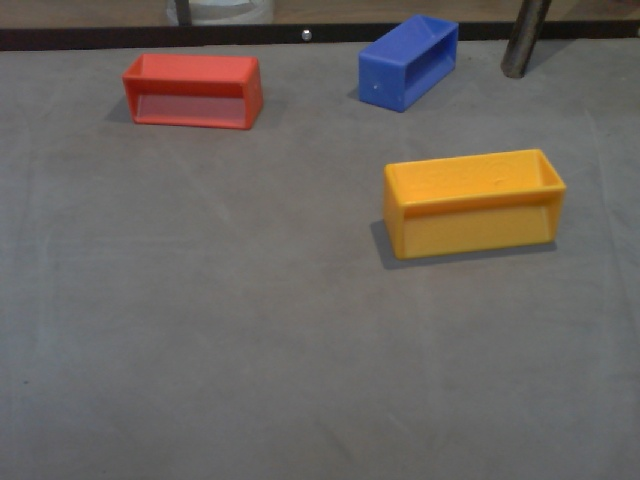BlueSample: (356, 14, 460, 113)
RedSample: (114, 50, 267, 135)
YellowSample: (379, 148, 567, 263)
